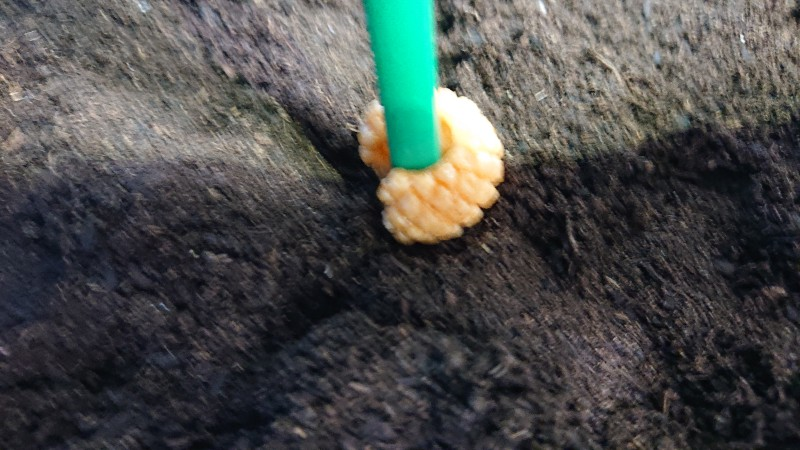eggs: (351, 81, 508, 247)
